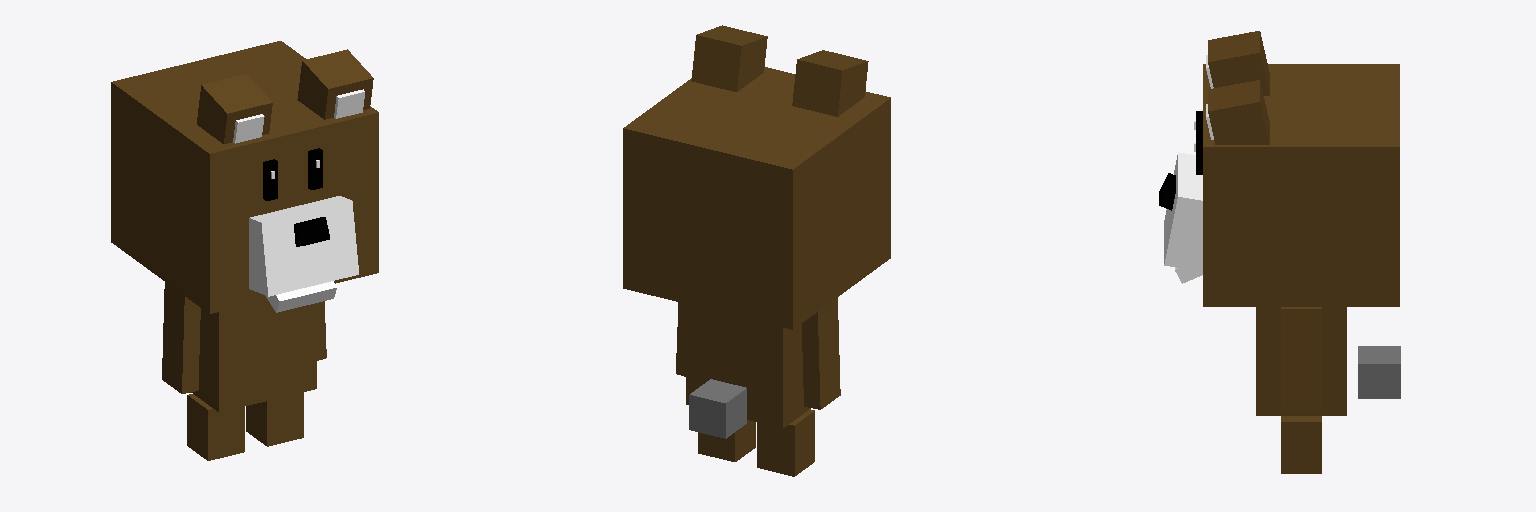
The model's file is bear.obj.
The picture shows the model from 3 angles: view 1: azimuth 30°, elevation 25°; view 2: azimuth 150°, elevation 25°; view 3: azimuth 270°, elevation 25°; orthographic projection.
Visible parts, largest first — view 1: pCube1, pCube12, pCube2, pCube14, pCube18, pCube9, pCube21, pCube20, pCube6, pCube4, pCube11, pCube17 (+2 smaller); view 2: pCube1, pCube12, pCube18, pCube9, pCube14, pCube21, pCube19, pCube20, pCube13; view 3: pCube1, pCube12, pCube13, pCube2, pCube9, pCube18, pCube20, pCube19.
Part boxes in pixels (bbox=[...]): pCube1: bbox=[111, 41, 378, 313]; pCube12: bbox=[191, 300, 316, 412]; pCube2: bbox=[249, 196, 358, 296]; pCube14: bbox=[162, 282, 200, 393]; pCube18: bbox=[197, 74, 272, 143]; pCube9: bbox=[297, 49, 373, 119]; pCube21: bbox=[187, 394, 244, 460]; pCube20: bbox=[246, 392, 303, 446]; pCube6: bbox=[266, 281, 336, 312]; pCube4: bbox=[294, 217, 329, 246]; pCube11: bbox=[334, 89, 364, 118]; pCube17: bbox=[233, 114, 264, 143]; pCube1: bbox=[623, 67, 890, 329]; pCube12: bbox=[686, 304, 810, 427]; pCube18: bbox=[792, 50, 868, 116]; pCube9: bbox=[691, 25, 767, 91]; pCube14: bbox=[802, 297, 840, 409]; pCube21: bbox=[757, 409, 814, 476]; pCube19: bbox=[689, 379, 746, 438]; pCube20: bbox=[698, 420, 755, 461]; pCube13: bbox=[676, 302, 685, 376]; pCube1: bbox=[1203, 64, 1399, 306]; pCube12: bbox=[1256, 307, 1346, 415]; pCube13: bbox=[1281, 307, 1321, 410]; pCube2: bbox=[1164, 152, 1202, 271]; pCube9: bbox=[1208, 80, 1269, 144]; pCube18: bbox=[1208, 31, 1269, 95]; pCube20: bbox=[1281, 416, 1321, 473]; pCube19: bbox=[1358, 346, 1400, 398].
Bounding box in the file's own units: 2.94 × 6.43 × 3.63.